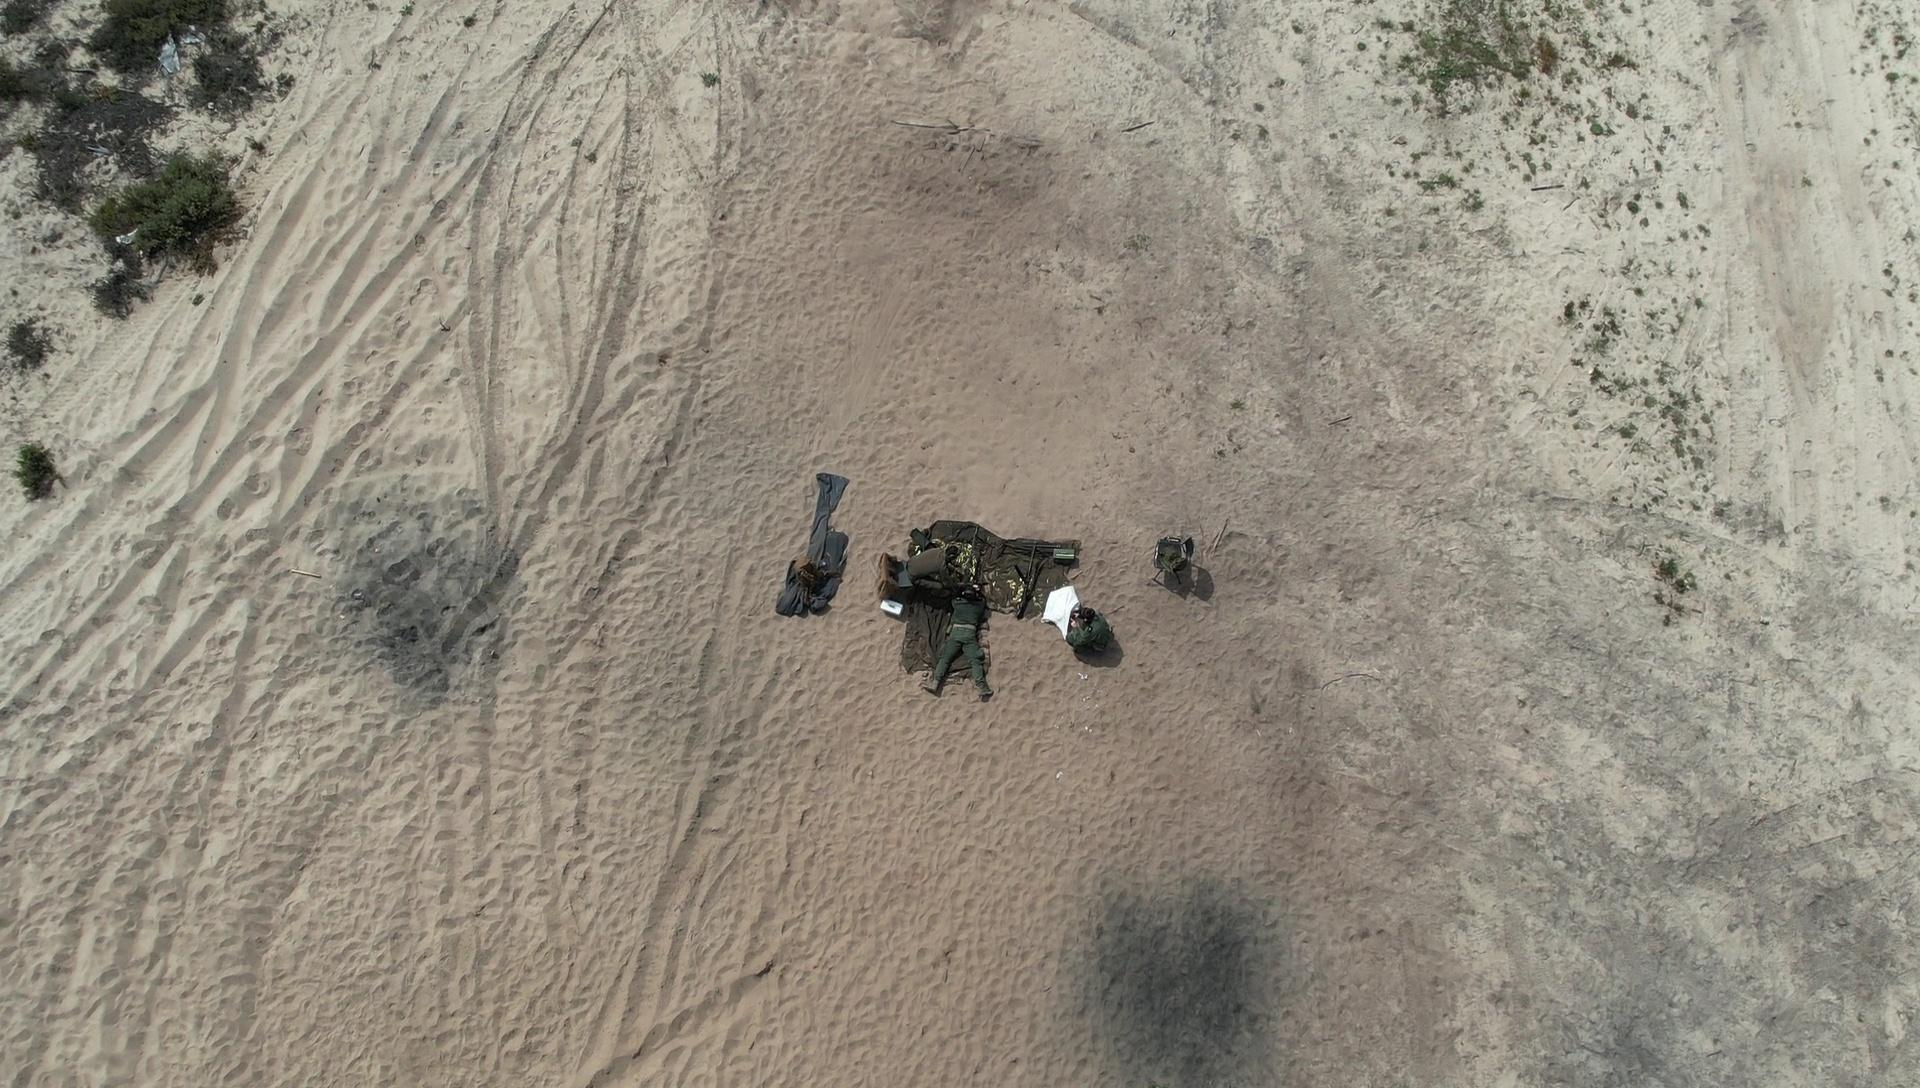Soldier: (914, 559, 996, 694), (1065, 589, 1125, 695), (902, 542, 982, 611)
